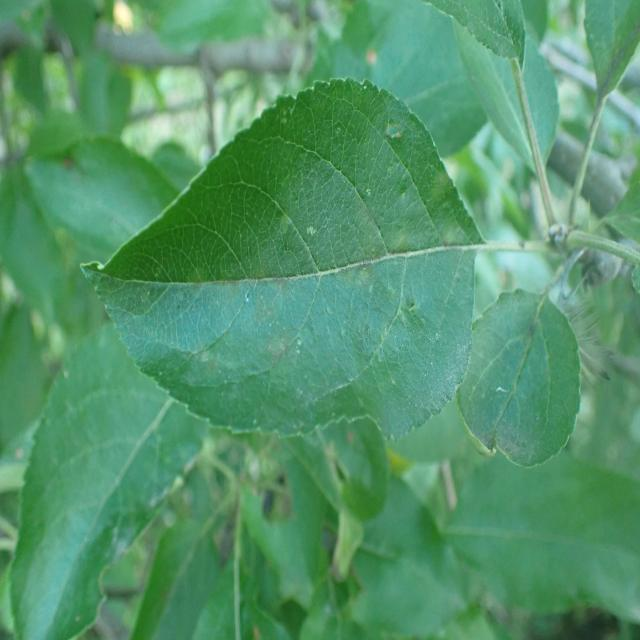scab: (168, 252, 432, 320), (256, 337, 314, 402), (517, 312, 552, 361)
